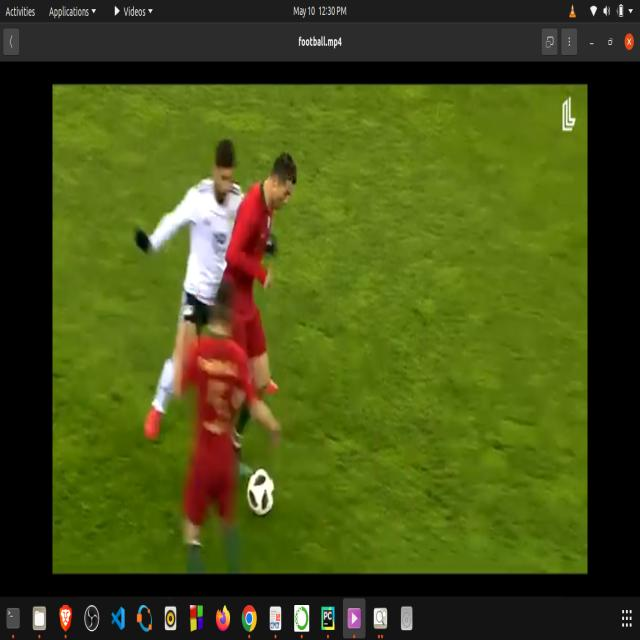Ball: (246, 463, 280, 523)
football-players: (142, 135, 242, 450), (187, 276, 250, 574), (238, 146, 302, 414)
